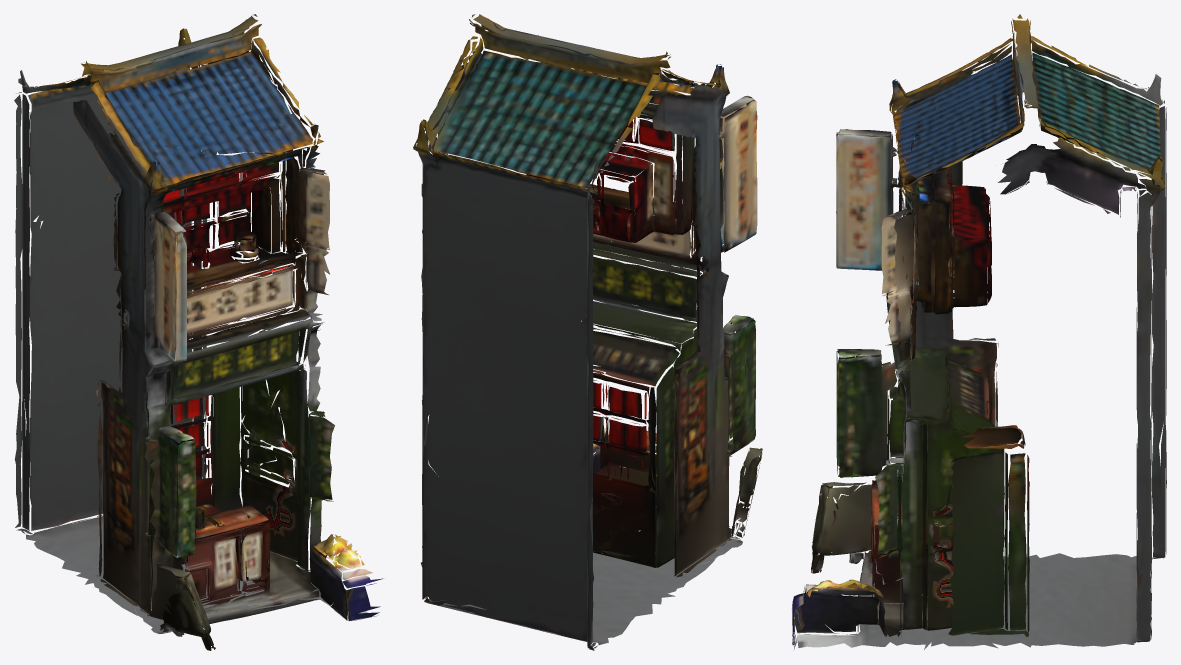
The model's file is Chinatown_House_5.obj.
3 views of the same model, side by side, from view 1: azimuth 30°, elevation 25°; view 2: azimuth 150°, elevation 25°; view 3: azimuth 270°, elevation 25° (orthographic). The views are drawn at different scales.
Visible parts, largest first — view 1: model; view 2: model; view 3: model.
Boxes of the visible parts, <box> form: model: <box>14,14,383,650</box>; model: <box>413,14,762,650</box>; model: <box>792,14,1166,650</box>.
Bounding box in the file's own units: 0.1655 × 0.4252 × 0.2649.
1 material, 1 textured.
